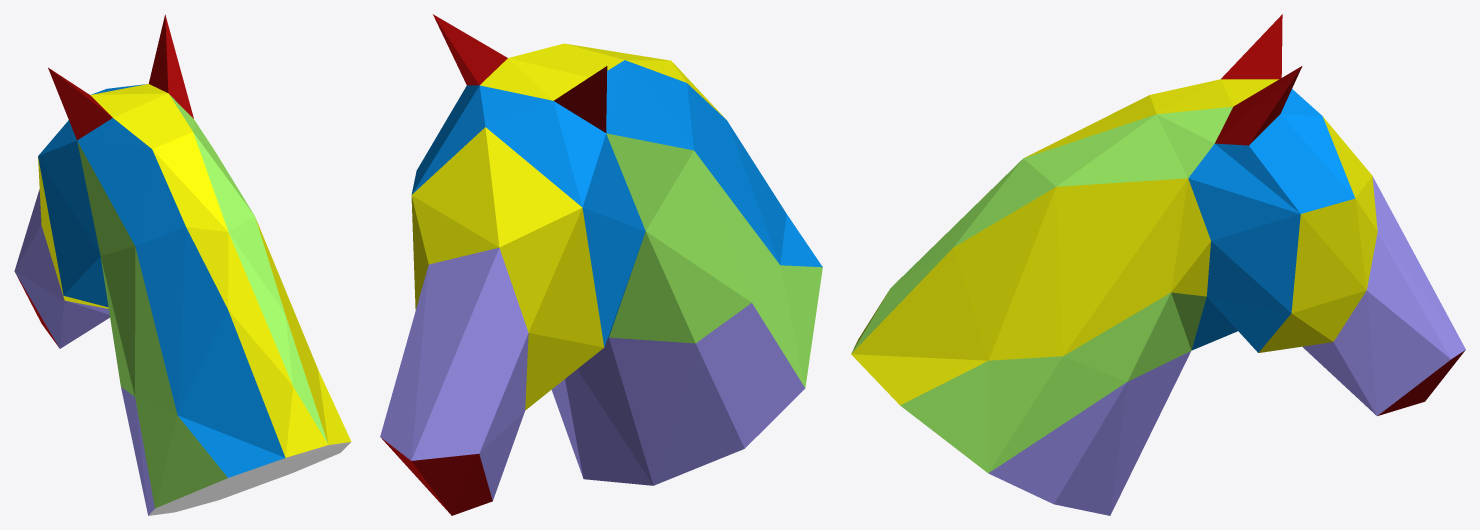
Rendered from buste_cheval120.obj.
The picture shows the model from 3 angles, left to right: view 1: azimuth 30°, elevation 25°; view 2: azimuth 150°, elevation 25°; view 3: azimuth 270°, elevation 25°; orthographic projection. The views are drawn at different scales.
Parts seen in each view (by area): view 1: unnamed_object1_color_000_153_256, unnamed_object1_color_163_254_102, unnamed_object1_color_256_256_001, unnamed_object1_color_163_153_256, unnamed_object1_color_163_000_000, unnamed_object1_color_256_256_256; view 2: unnamed_object1_color_163_153_256, unnamed_object1_color_256_256_001, unnamed_object1_color_000_153_256, unnamed_object1_color_163_254_102, unnamed_object1_color_163_000_000; view 3: unnamed_object1_color_256_256_001, unnamed_object1_color_163_254_102, unnamed_object1_color_163_153_256, unnamed_object1_color_000_153_256, unnamed_object1_color_163_000_000.
Part boxes in pixels (<box>): unnamed_object1_color_000_153_256: <box>38,84,285,477</box>; unnamed_object1_color_163_254_102: <box>77,94,327,508</box>; unnamed_object1_color_256_256_001: <box>38,84,351,457</box>; unnamed_object1_color_163_153_256: <box>14,189,154,515</box>; unnamed_object1_color_163_000_000: <box>15,14,193,347</box>; unnamed_object1_color_256_256_256: <box>148,442,350,515</box>; unnamed_object1_color_163_153_256: <box>380,247,805,500</box>; unnamed_object1_color_256_256_001: <box>411,43,726,410</box>; unnamed_object1_color_000_153_256: <box>411,60,822,346</box>; unnamed_object1_color_163_254_102: <box>606,133,822,387</box>; unnamed_object1_color_163_000_000: <box>381,14,607,515</box>; unnamed_object1_color_256_256_001: <box>851,79,1377,405</box>; unnamed_object1_color_163_254_102: <box>851,106,1232,473</box>; unnamed_object1_color_163_153_256: <box>988,176,1465,515</box>; unnamed_object1_color_000_153_256: <box>1188,89,1355,352</box>; unnamed_object1_color_163_000_000: <box>1215,14,1465,415</box>.
Bounding box in the file's own units: 11.04 × 23.71 × 28.25.
